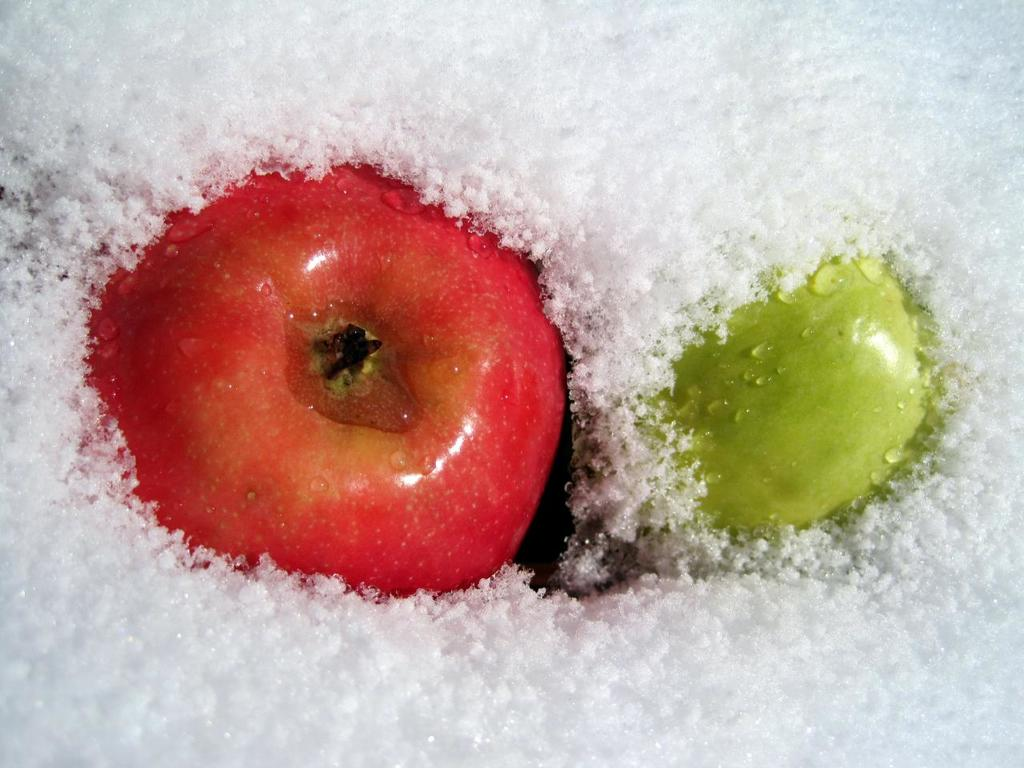Apple: (81, 159, 573, 590), (628, 250, 944, 540)
